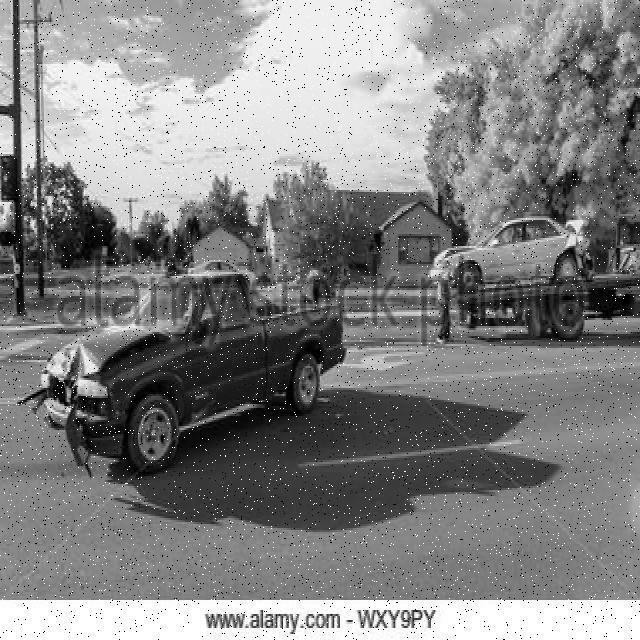bonnet-dent: (51, 330, 167, 370)
front-bumper-dent: (32, 374, 110, 428)
